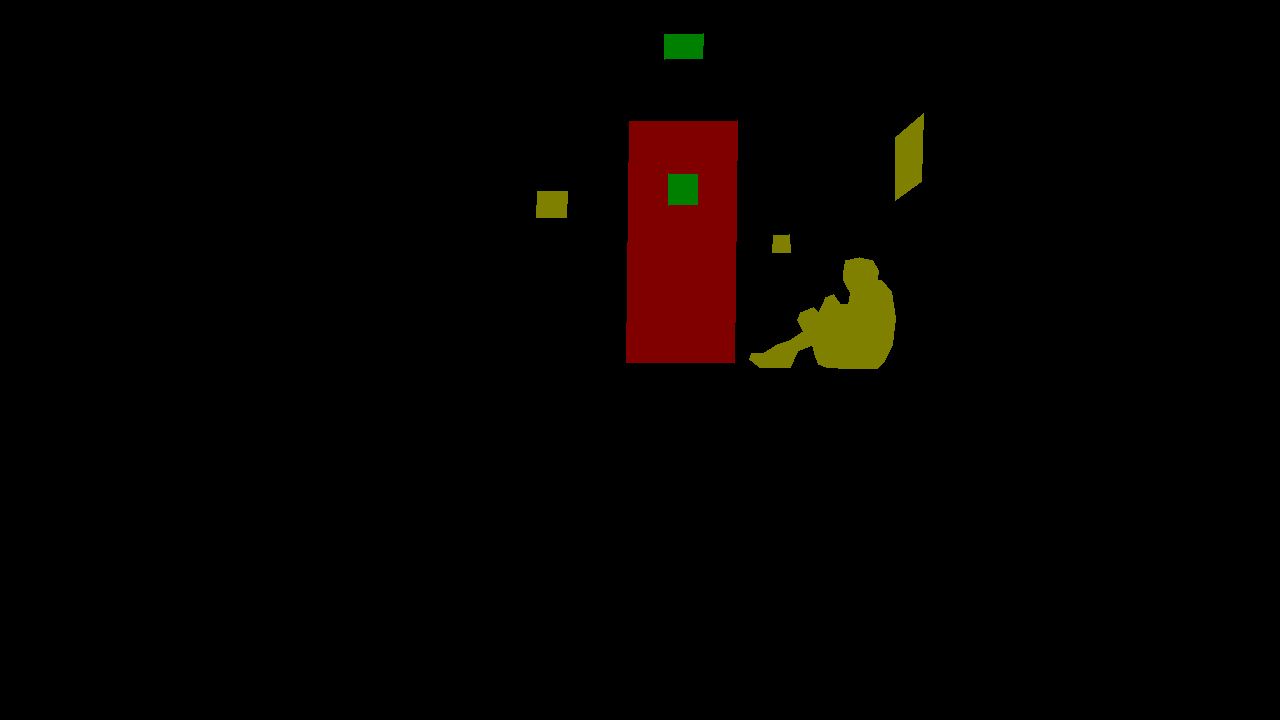door: (626, 120, 737, 363)
person: (749, 257, 895, 368)
sign: (895, 113, 923, 200), (664, 33, 703, 59), (668, 173, 697, 205), (536, 191, 567, 217), (772, 234, 790, 252)
